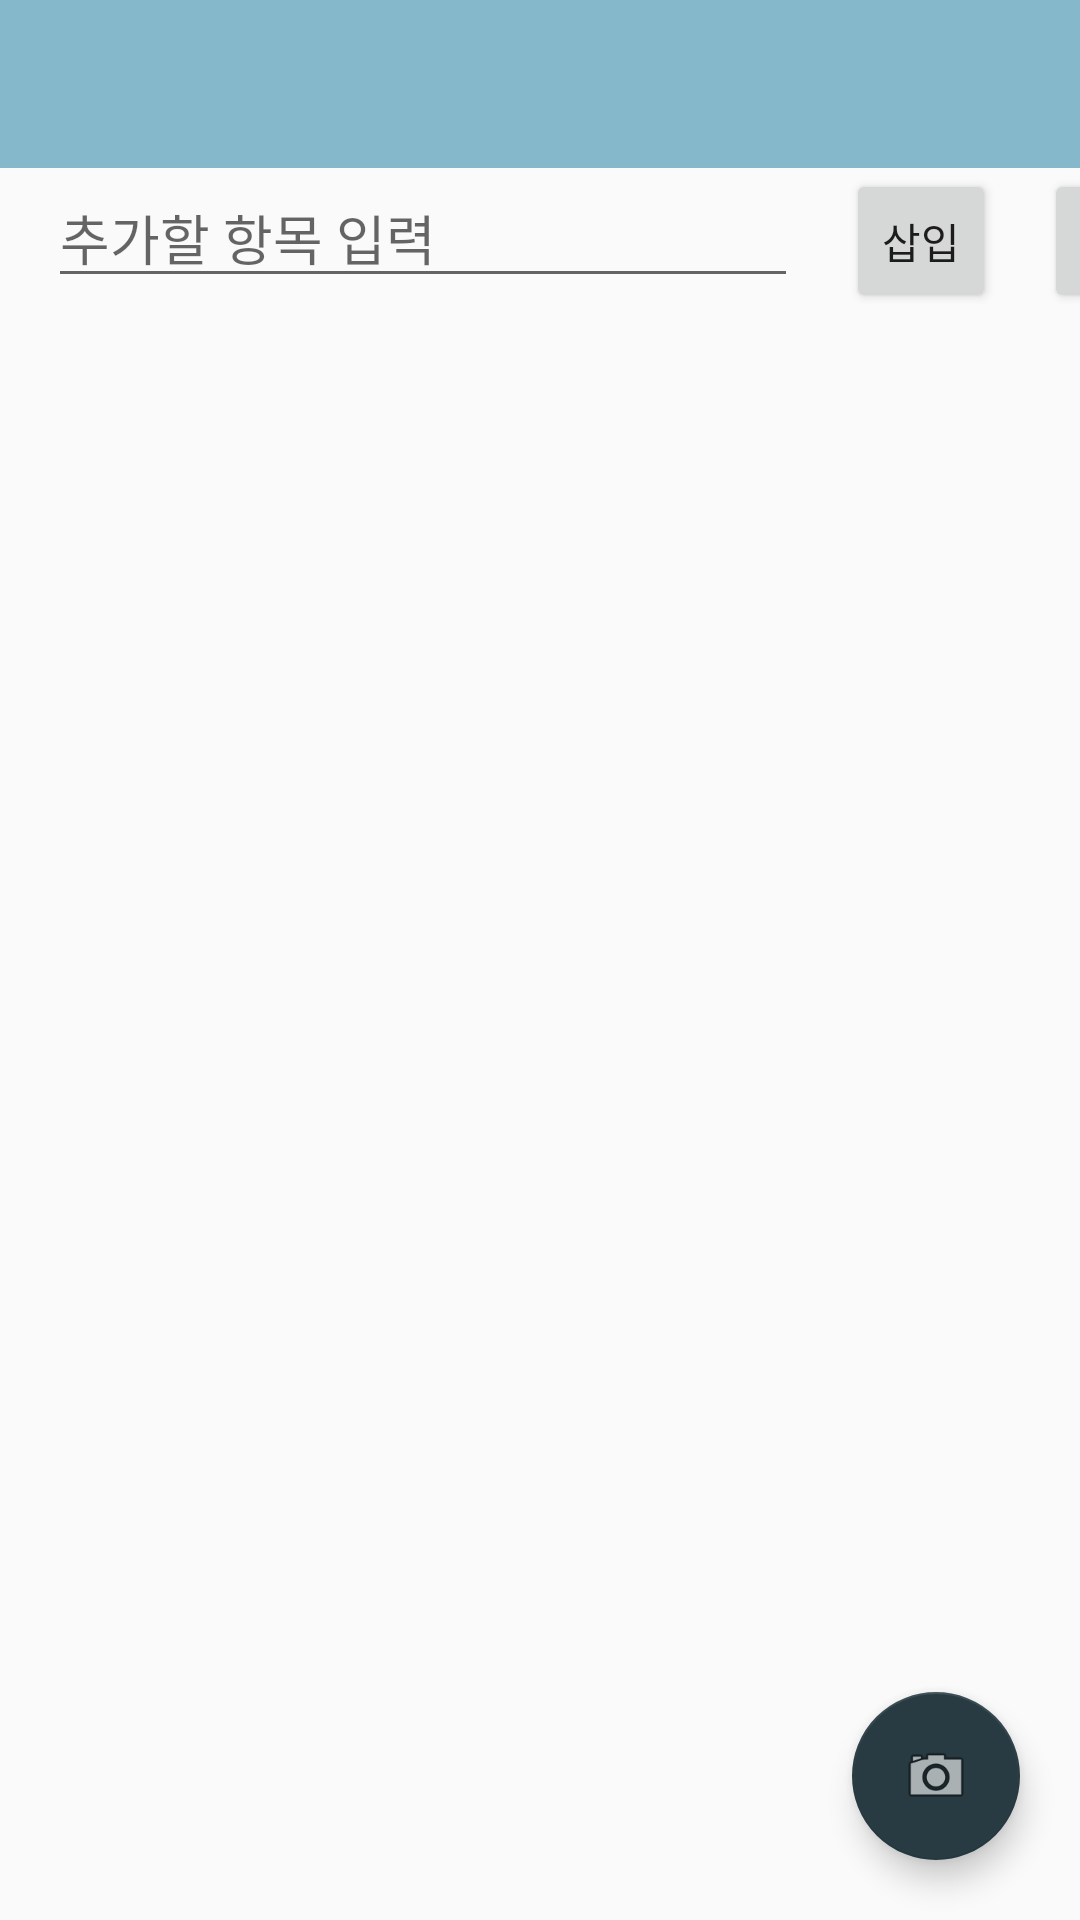

Icon click points for this 1080px x 1920px phone screenshot, format point (x, y):
camera: point (936, 1776)
